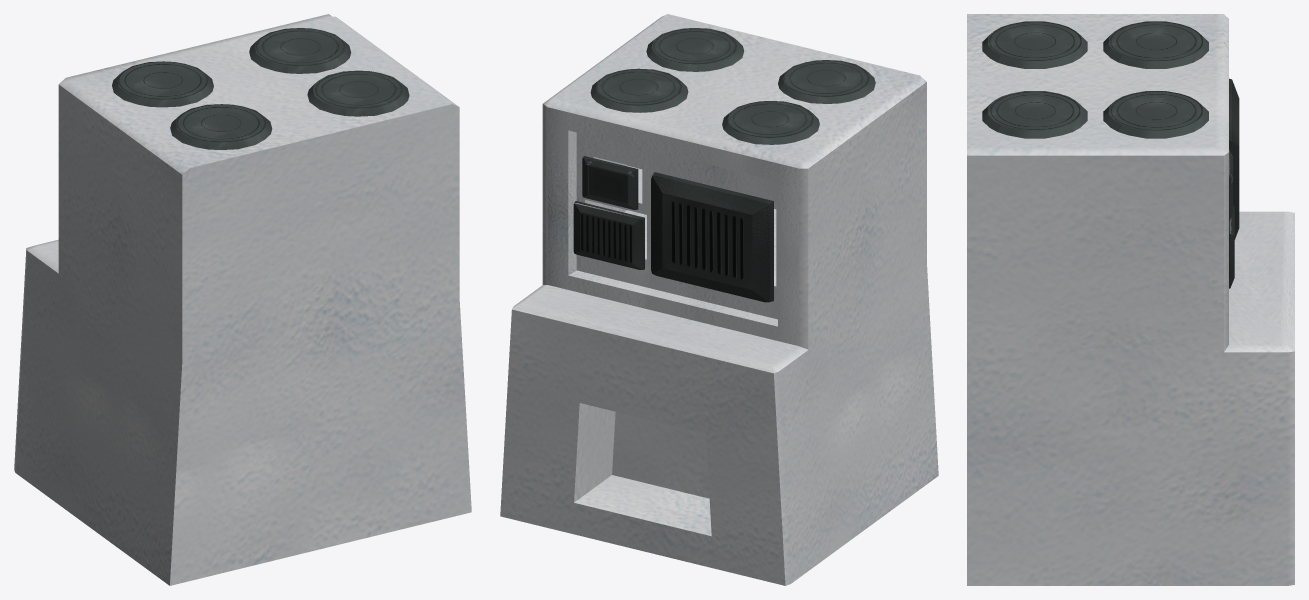
The model's file is Oven 2.fbx.
3 views of the same model, side by side, from view 1: azimuth 30°, elevation 25°; view 2: azimuth 150°, elevation 25°; view 3: azimuth 270°, elevation 25° (orthographic). The views are drawn at different scales.
Parts seen in each view (by area): view 1: pCube5; view 2: pCube5, pCube6, pCube8, pCube7; view 3: pCube5, pCube6, pCube8.
Boxes of the visible parts, x1,y1,x2,y2 form: pCube5: (14,14,471,585); pCube5: (500,14,938,585); pCube6: (651,172,773,302); pCube8: (573,201,644,269); pCube7: (582,156,638,209); pCube5: (967,14,1294,585); pCube6: (1229,78,1239,239); pCube8: (1229,205,1234,288).
Bounding box in the file's own units: 77.69 × 103 × 70.35.
Materials: 1 (1 with a texture image).
